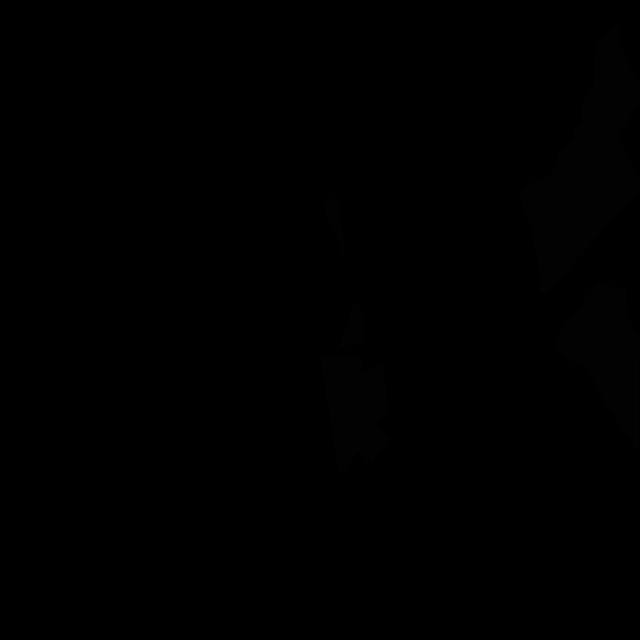cardboard: (518, 19, 640, 293), (554, 281, 640, 455), (320, 356, 390, 476), (320, 198, 346, 259), (337, 300, 366, 350)
